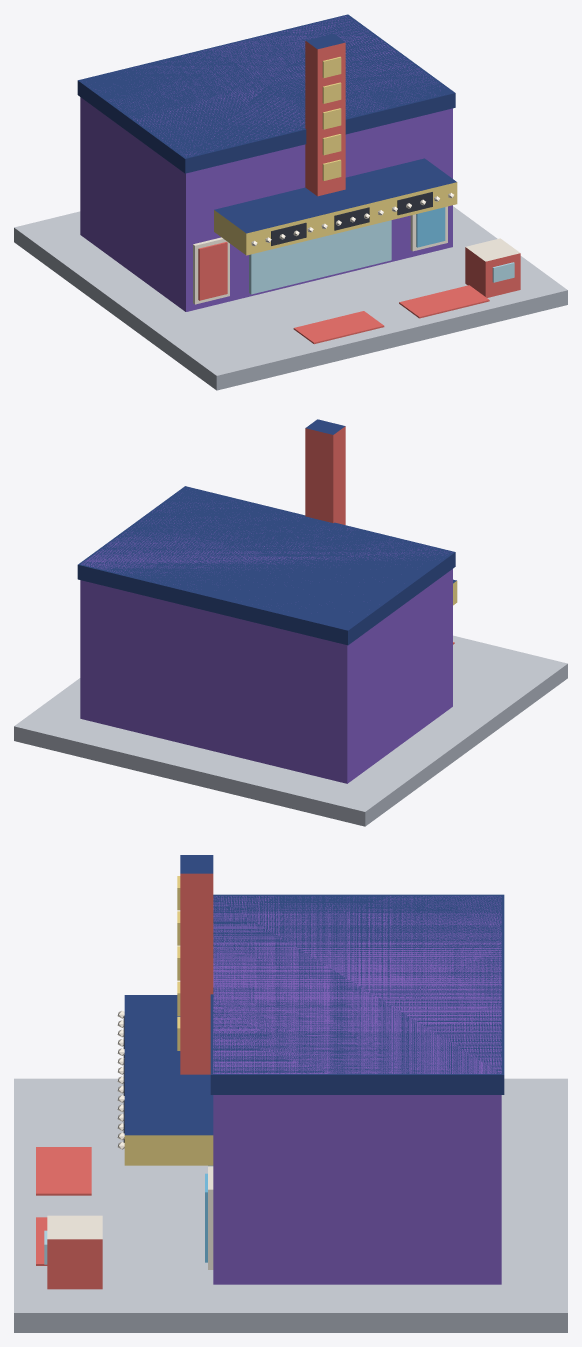
Rendered from shop_cinema.glb.
3 renders of one model, top to bottom at view 1: azimuth 30°, elevation 25°; view 2: azimuth 150°, elevation 25°; view 3: azimuth 270°, elevation 25°, orthographic. The views are drawn at different scales.
Parts seen in each view (by area): view 1: shop_cinema; view 2: shop_cinema; view 3: shop_cinema.
Part boxes in pixels (x1,y1,x2,y2): shop_cinema: [14, 14, 567, 390]; shop_cinema: [14, 419, 567, 826]; shop_cinema: [14, 855, 567, 1332].
Bounding box in the file's own units: 1 × 0.7 × 1.
